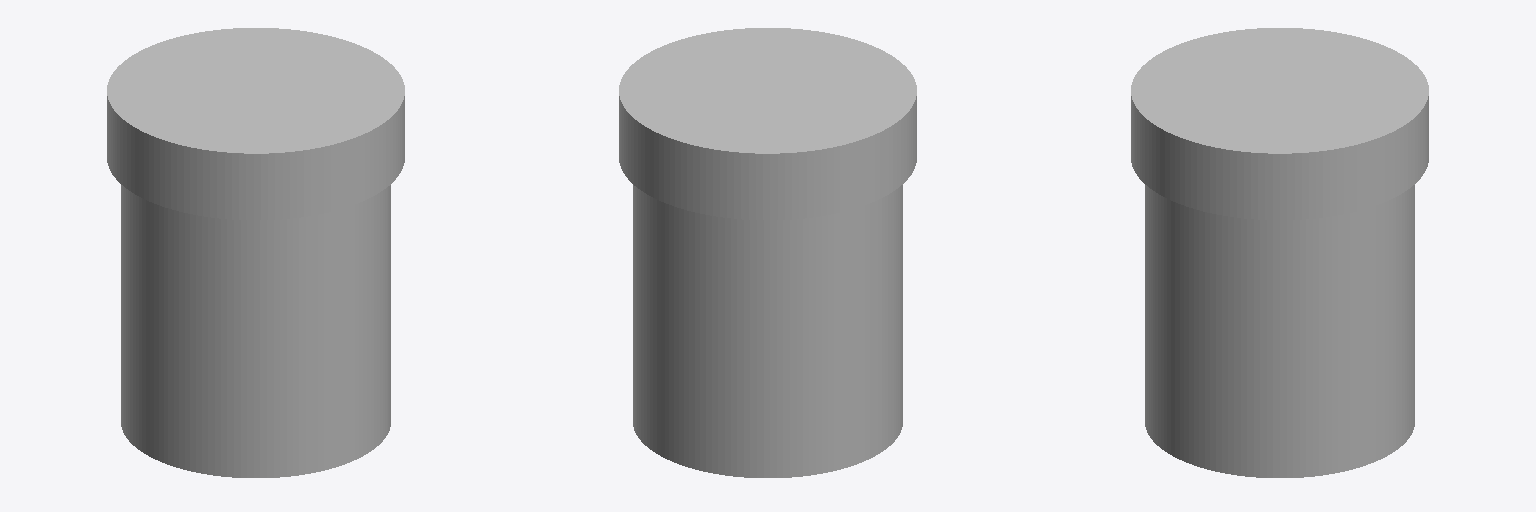
The model's file is 25mmCircle.obj.
The picture shows the model from 3 angles: view 1: azimuth 30°, elevation 25°; view 2: azimuth 150°, elevation 25°; view 3: azimuth 270°, elevation 25°; orthographic projection.
Parts seen in each view (by area): view 1: 25mmCircle.002, 25mmCircle.001; view 2: 25mmCircle.002, 25mmCircle.001; view 3: 25mmCircle.002, 25mmCircle.001.
Part boxes in pixels (bbox=[...]): 25mmCircle.002: bbox=[121, 185, 390, 477]; 25mmCircle.001: bbox=[107, 28, 404, 219]; 25mmCircle.002: bbox=[633, 185, 902, 477]; 25mmCircle.001: bbox=[619, 28, 916, 219]; 25mmCircle.002: bbox=[1145, 185, 1414, 477]; 25mmCircle.001: bbox=[1131, 28, 1428, 219].
Bounding box in the file's own units: 25.5 × 31.2 × 25.5.